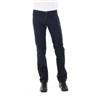abbigliamento_uomo: (32, 9, 65, 81)
